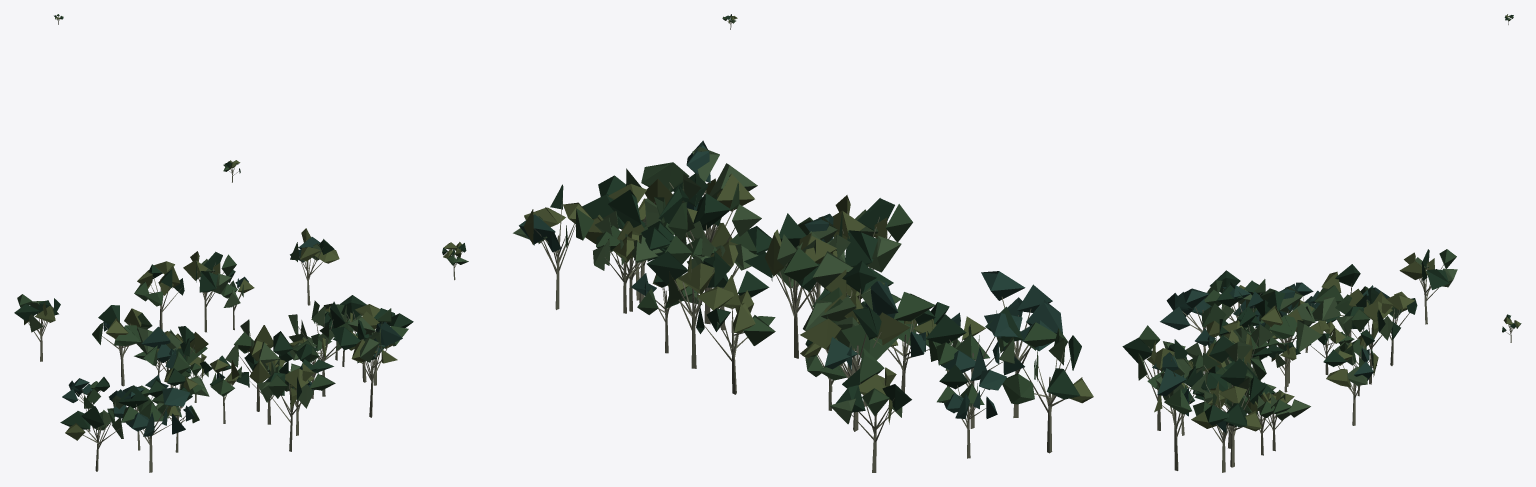
The model's file is forest_20_21.dae.
3 renders of one model, left to right at view 1: azimuth 30°, elevation 25°; view 2: azimuth 150°, elevation 25°; view 3: azimuth 270°, elevation 25°, orthographic. The views are drawn at different scales.
Parts seen in each view (by area): view 1: Node; view 2: Node; view 3: Node.
Boxes of the visible parts, left/top/right/bottom form: Node: left=14, top=14, right=413, bottom=472; Node: left=442, top=14, right=1093, bottom=472; Node: left=1122, top=14, right=1521, bottom=472.
Size of the model in its own units: 11.99 by 11.26 by 11.96.
